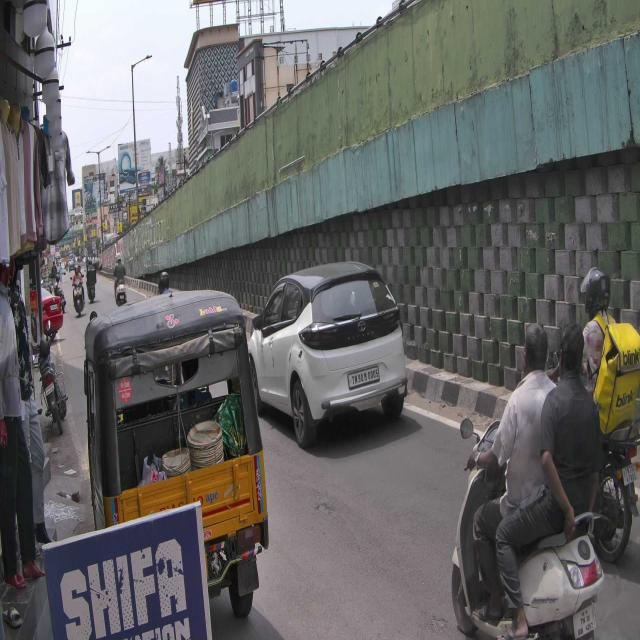double_rider: (450, 315, 603, 640)
